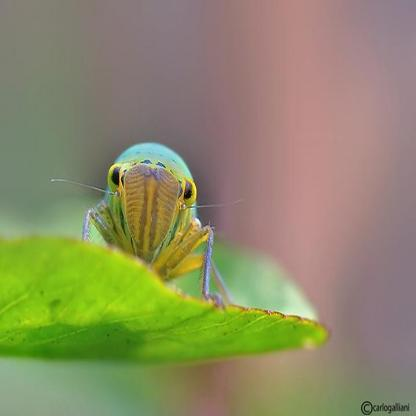Green-Leafhopper: (76, 136, 228, 311)
